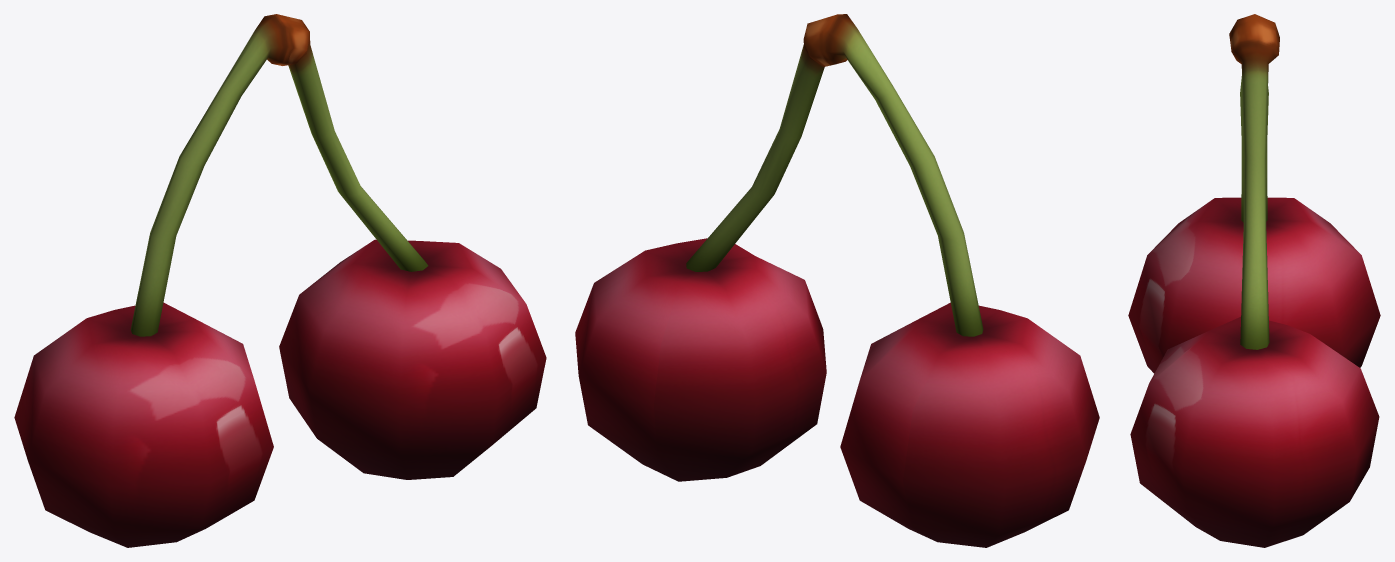
The model's file is Cherry.fbx.
3 views of the same model, side by side, from view 1: azimuth 30°, elevation 25°; view 2: azimuth 150°, elevation 25°; view 3: azimuth 270°, elevation 25° (orthographic). The views are drawn at different scales.
Visible parts, largest first — view 1: Cherry; view 2: Cherry; view 3: Cherry.
Part boxes in pixels (bbox=[...]): Cherry: bbox=[14, 14, 546, 547]; Cherry: bbox=[575, 14, 1099, 547]; Cherry: bbox=[1128, 14, 1380, 547].
Bounding box in the file's own units: 29.51 × 26.82 × 13.74.
Materials: 1 (1 with a texture image).
